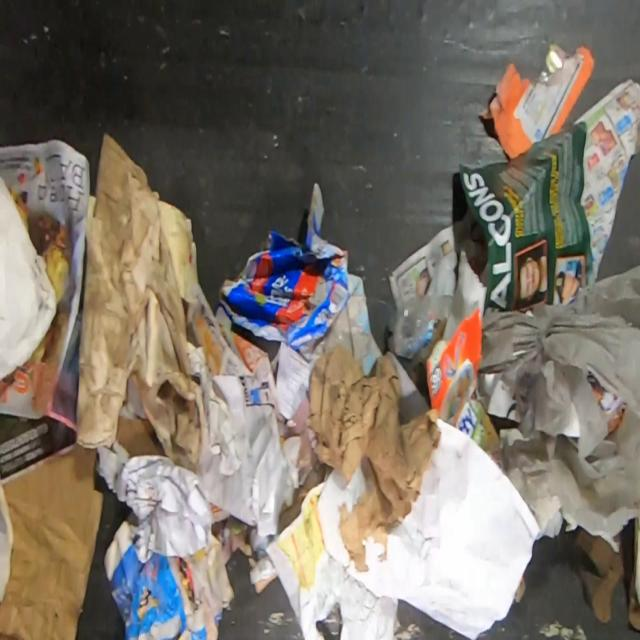cardboard: (213, 182, 363, 363), (0, 442, 105, 640), (103, 519, 235, 639), (425, 305, 503, 473)
soft_plastic: (478, 263, 640, 553), (386, 293, 453, 360)
